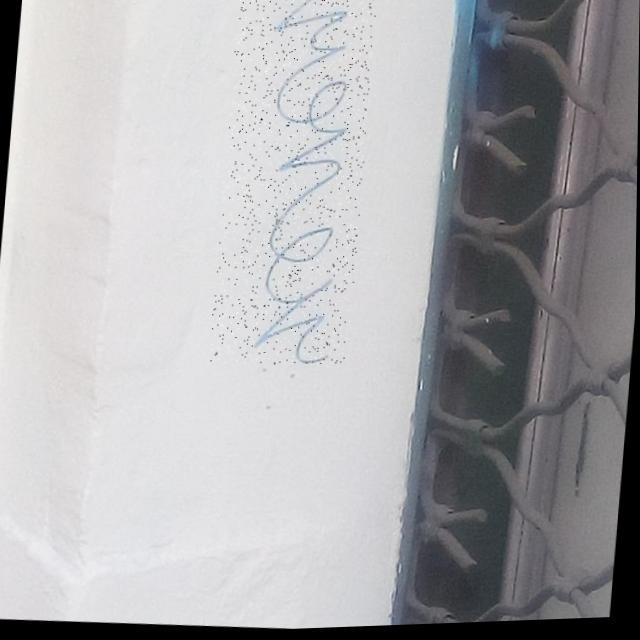-: (209, 0, 378, 373)
